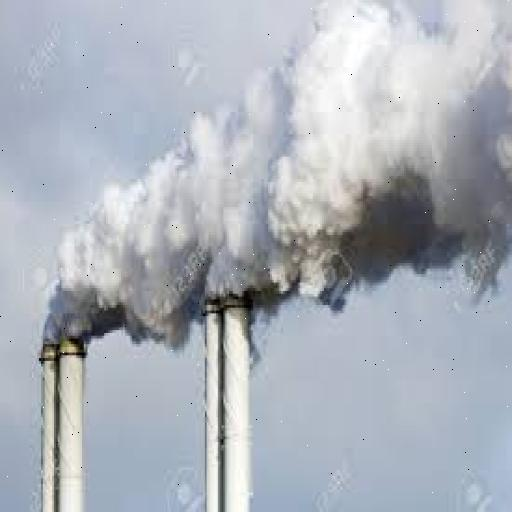smoke: (48, 6, 512, 341)
